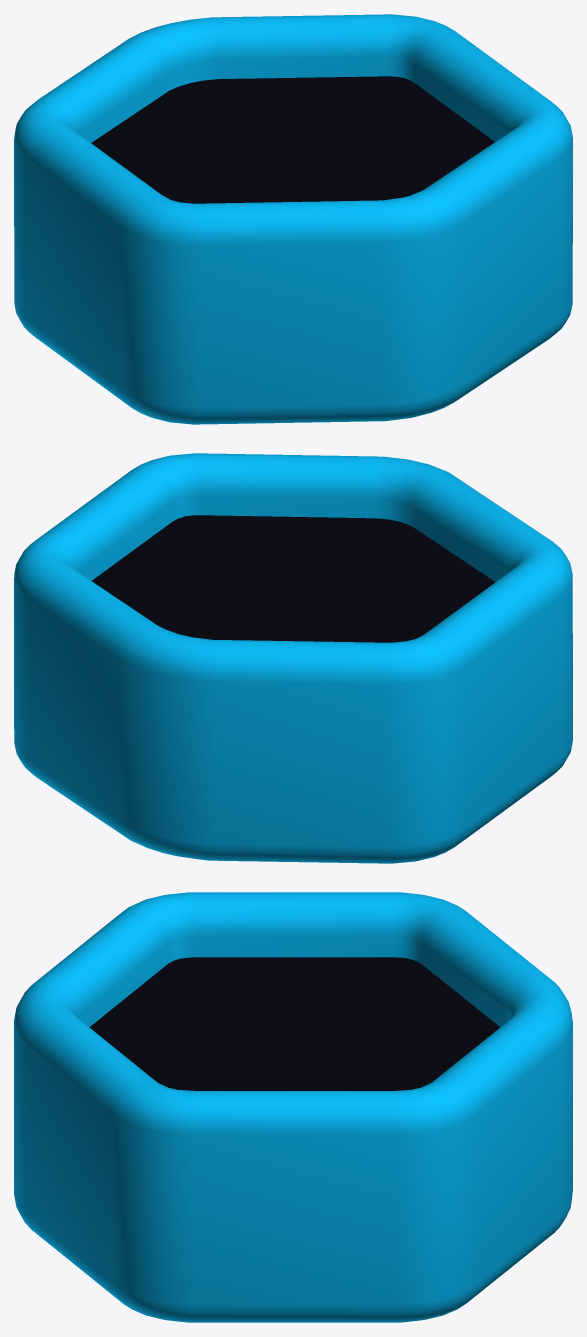
The model's file is Particle-23.dae.
The picture shows the model from 3 angles, top to bottom: view 1: azimuth 30°, elevation 25°; view 2: azimuth 150°, elevation 25°; view 3: azimuth 270°, elevation 25°; orthographic projection. The views are drawn at different scales.
Parts seen in each view (by area): view 1: Particle; view 2: Particle; view 3: Particle.
Part boxes in pixels (x1,y1,x2,y2): Particle: (14,14,572,424); Particle: (14,453,572,863); Particle: (14,892,572,1322).
Bounding box in the file's own units: 0.1279 × 0.06 × 0.1343.
